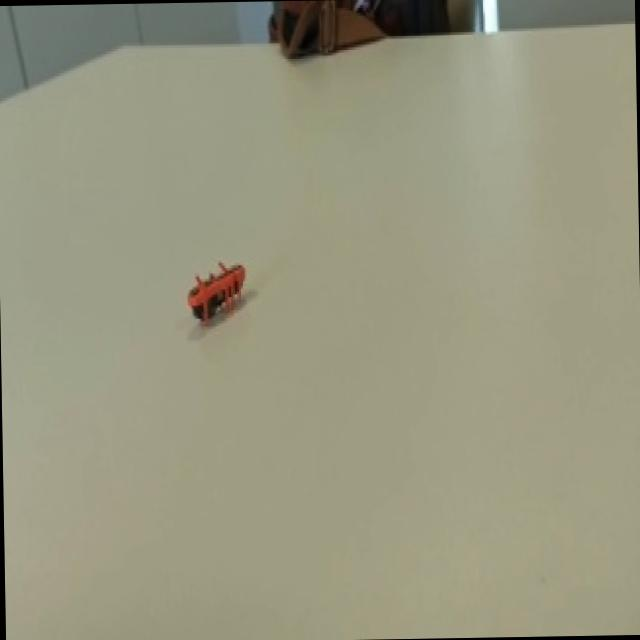7_NanoBug_Naranja: (170, 238, 271, 336)
